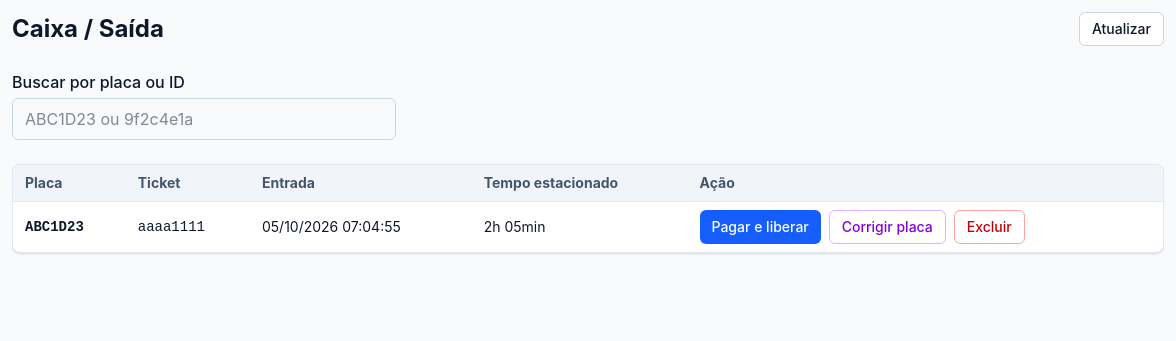
Test: PaymentPage › erro 404 exibe Sessão não encontrada e a linha volta ao normal
Check: the table is shown, box [13, 165, 1163, 252]
Click the button "Pagar e liberar".
click(760, 227)  # box [700, 210, 821, 244]
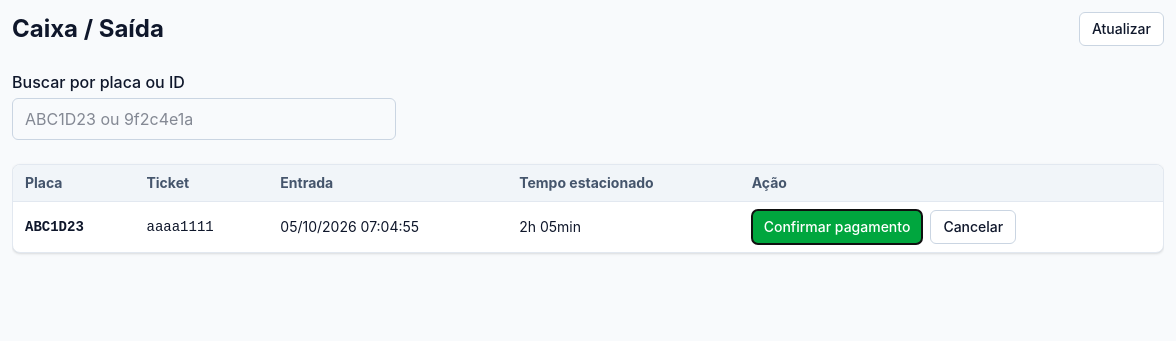
Click the button "Confirmar pagamento".
click(837, 227)  # box [752, 210, 922, 244]
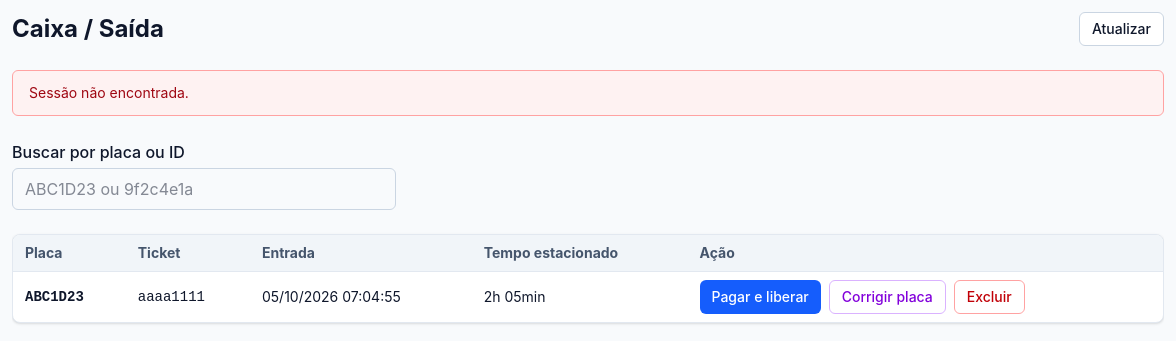
Check: the button "Pagar e liberar" is enabled, box [700, 280, 821, 314]
Check: the message reads "Sessão não encontrada.", box [29, 84, 189, 101]
